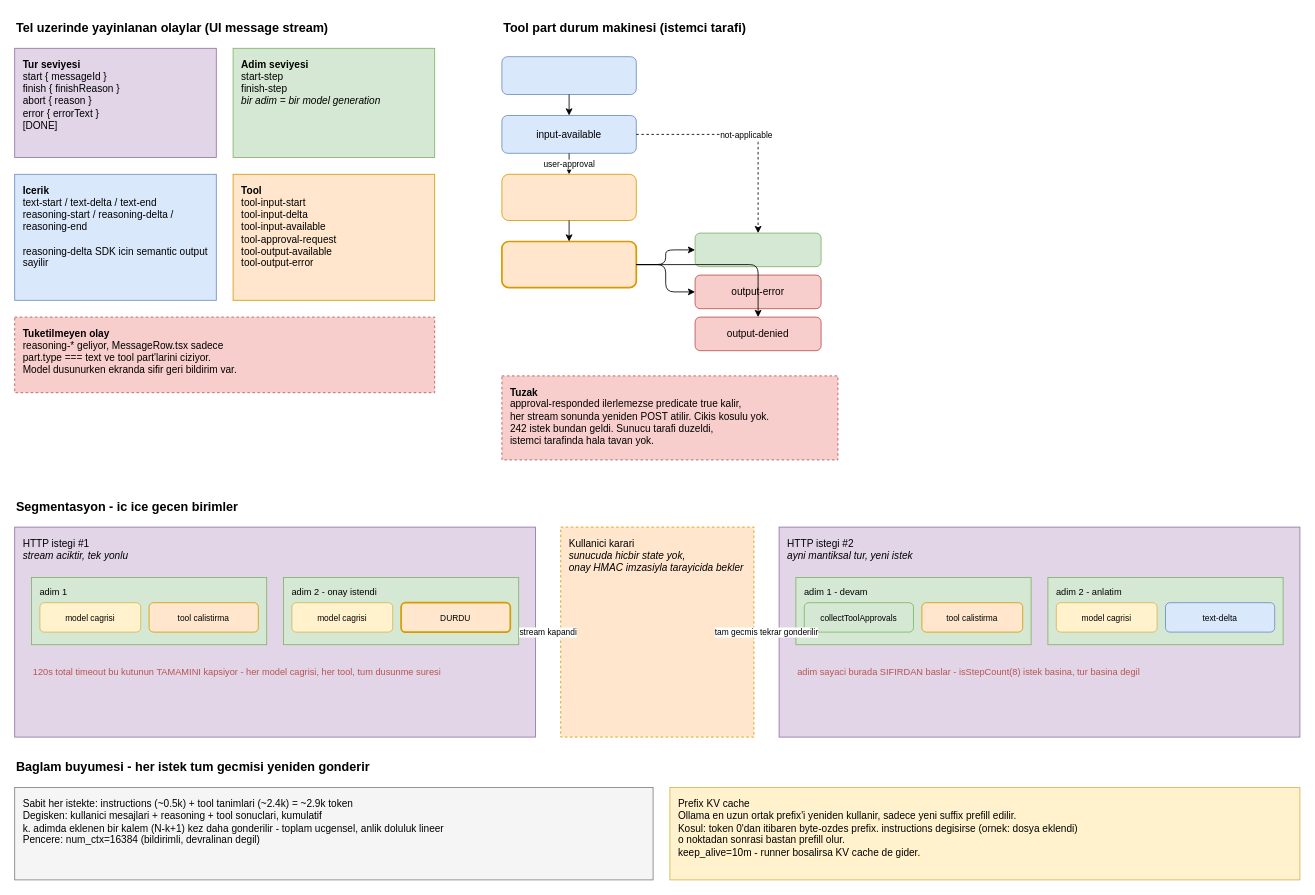
The diagram is 1315 pixels wide and 895 high, and some of its shapes have lost their labels. Each missing label, with the centre of its shape:
approval-requested amber, tur kapanir: the point at 568,196
approval-responded kullanici karar verdi: the point at 569,264
input-streaming: the point at 568,75
output-available: the point at 757,249
